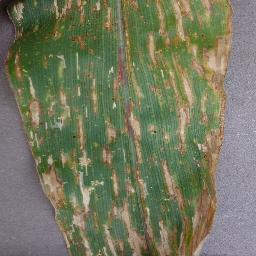Gray_Leaf_Spot: (0, 0, 235, 254)
